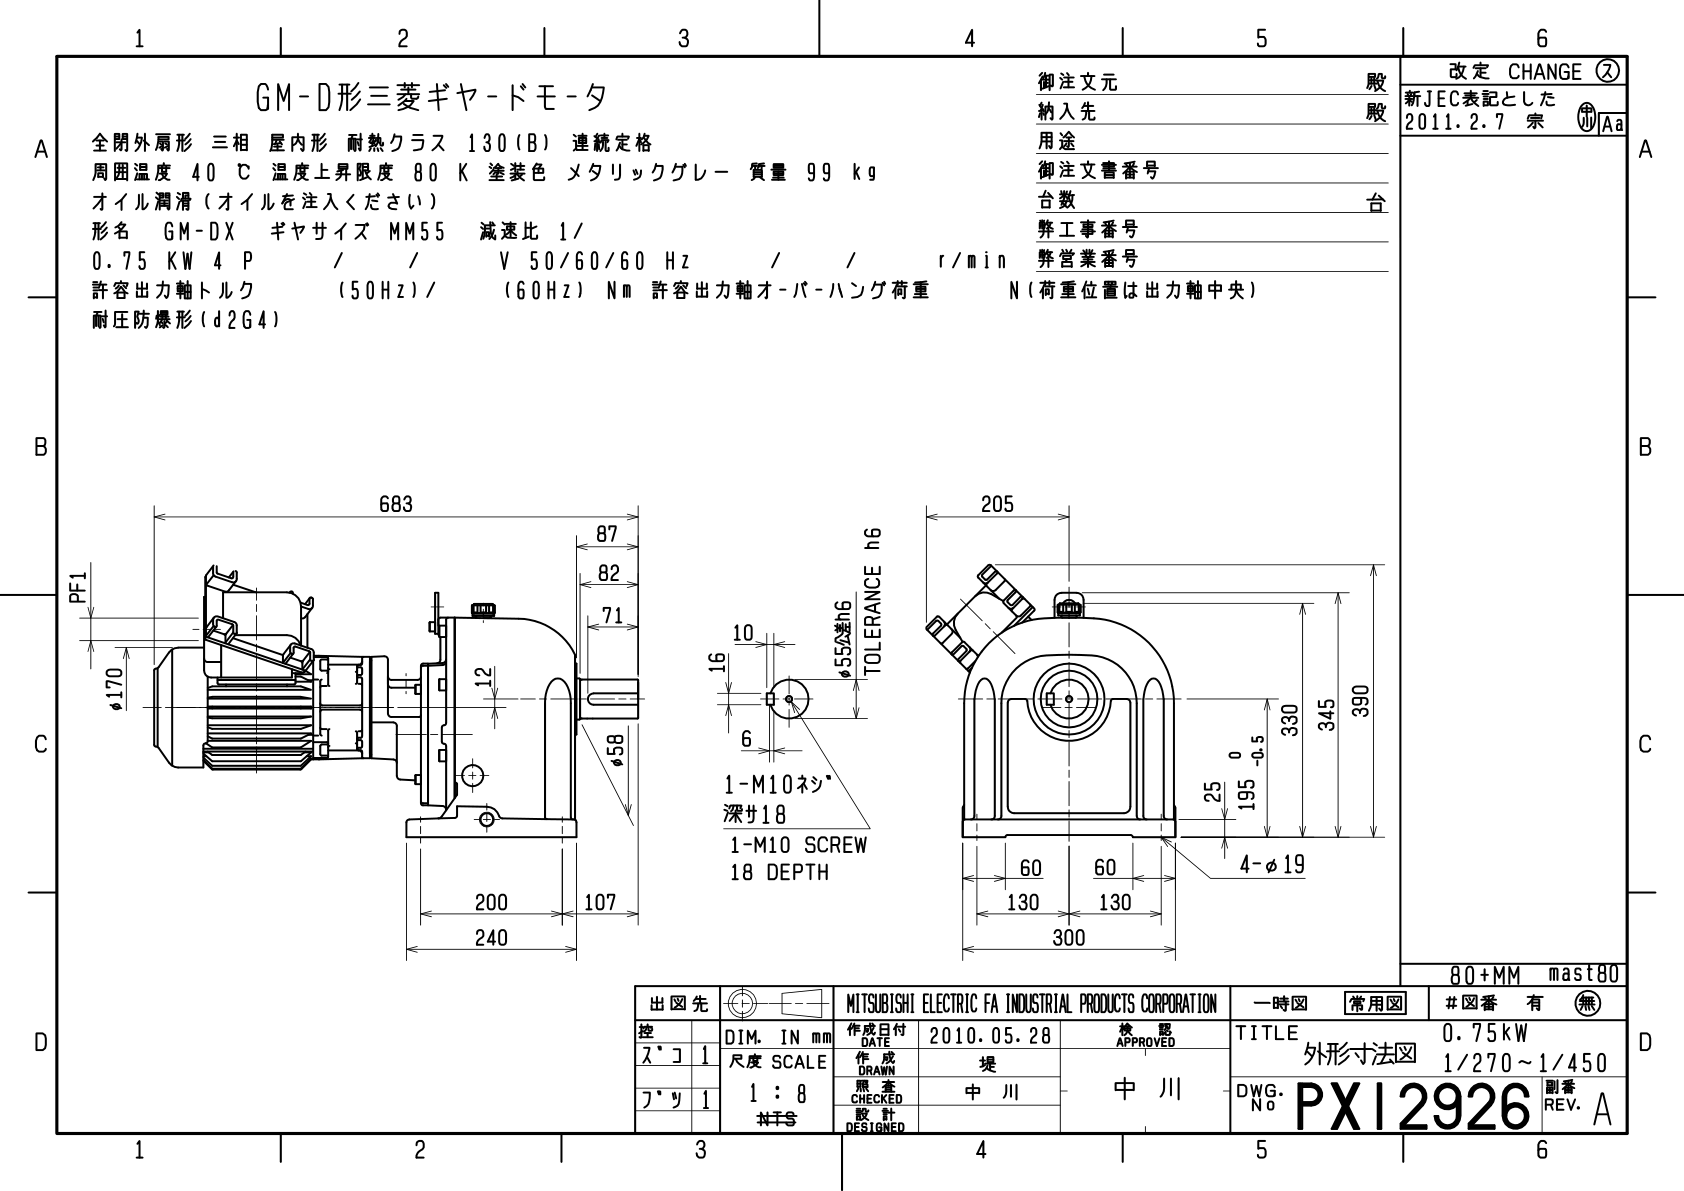GM_D_耐圧屋内_三相_脚: (15, 5, 1684, 1191)
